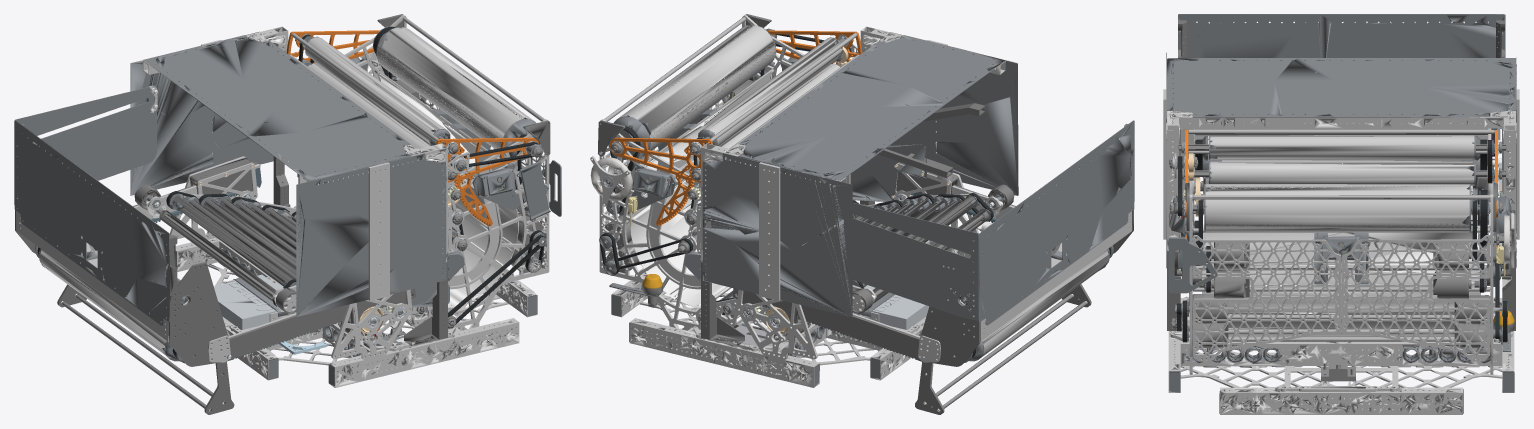
Rendered from rubble-581.glb.
3 views of the same model, side by side, from view 1: azimuth 30°, elevation 25°; view 2: azimuth 150°, elevation 25°; view 3: azimuth 270°, elevation 25° (orthographic). The views are drawn at different scales.
Visible parts, largest first — view 1: frame, intake, hopper-roof-sheet, hood, flywheel; view 2: frame, intake, hopper-roof-sheet, hood, flywheel; view 3: frame, hopper-roof-sheet, intake, hood, flywheel.
Boxes of the visible parts, x1=… form: frame: x1=130, y1=14, x2=561, y2=387; intake: x1=14, y1=85, x2=415, y2=414; hopper-roof-sheet: x1=143, y1=35, x2=410, y2=181; hood: x1=286, y1=30, x2=539, y2=226; flywheel: x1=373, y1=26, x2=542, y2=161; frame: x1=590, y1=14, x2=1018, y2=387; intake: x1=732, y1=103, x2=1134, y2=414; hopper-roof-sheet: x1=738, y1=35, x2=1005, y2=180; hood: x1=609, y1=30, x2=862, y2=226; flywheel: x1=608, y1=24, x2=777, y2=159; frame: x1=1163, y1=52, x2=1519, y2=414; hopper-roof-sheet: x1=1167, y1=58, x2=1515, y2=117; intake: x1=1174, y1=14, x2=1511, y2=285; hood: x1=1169, y1=129, x2=1506, y2=246; flywheel: x1=1169, y1=184, x2=1503, y2=232.
Bounding box in the file's own units: 0.9922 × 0.557 × 0.7461.
